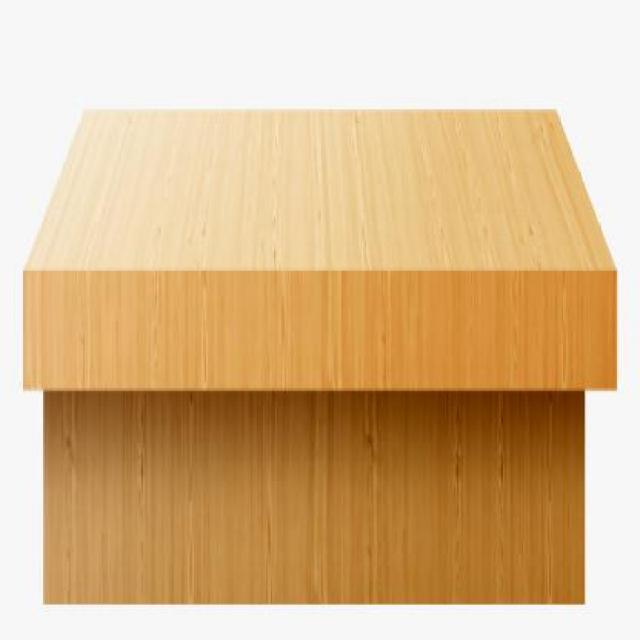table: (19, 96, 618, 599)
